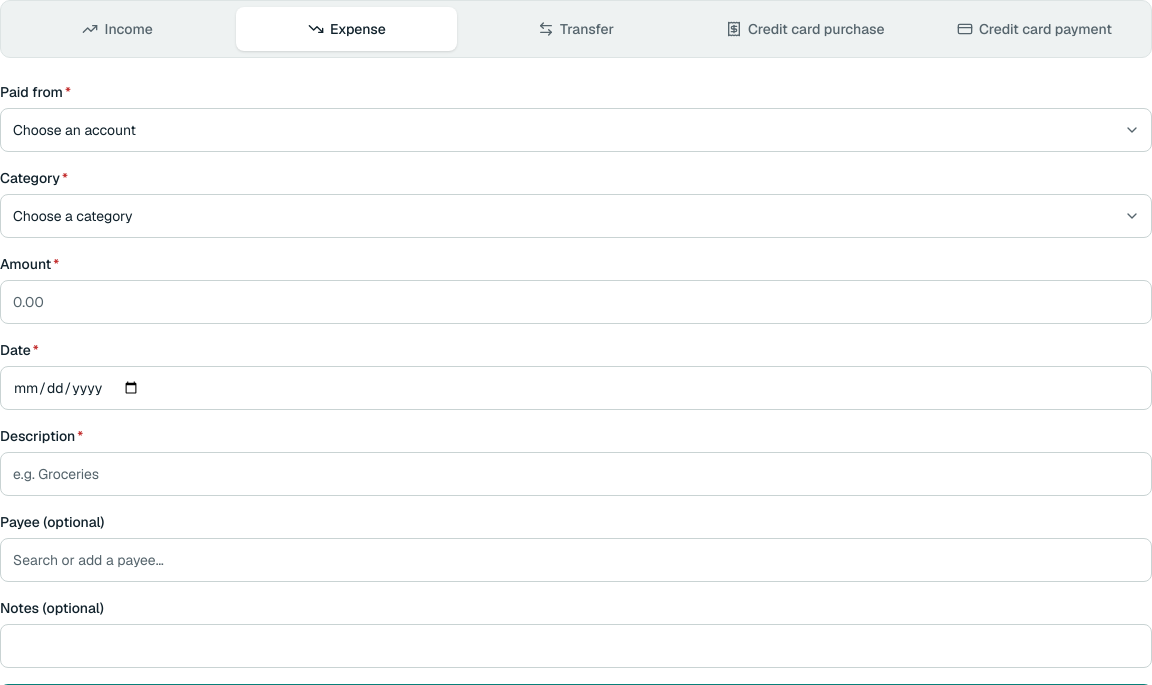
Test: NewTransactionForm › switches to the credit card payment form
Step 1. Click the radio button labelled "Credit card payment" → coordinates (1034, 29), box 924,7 -> 1145,51
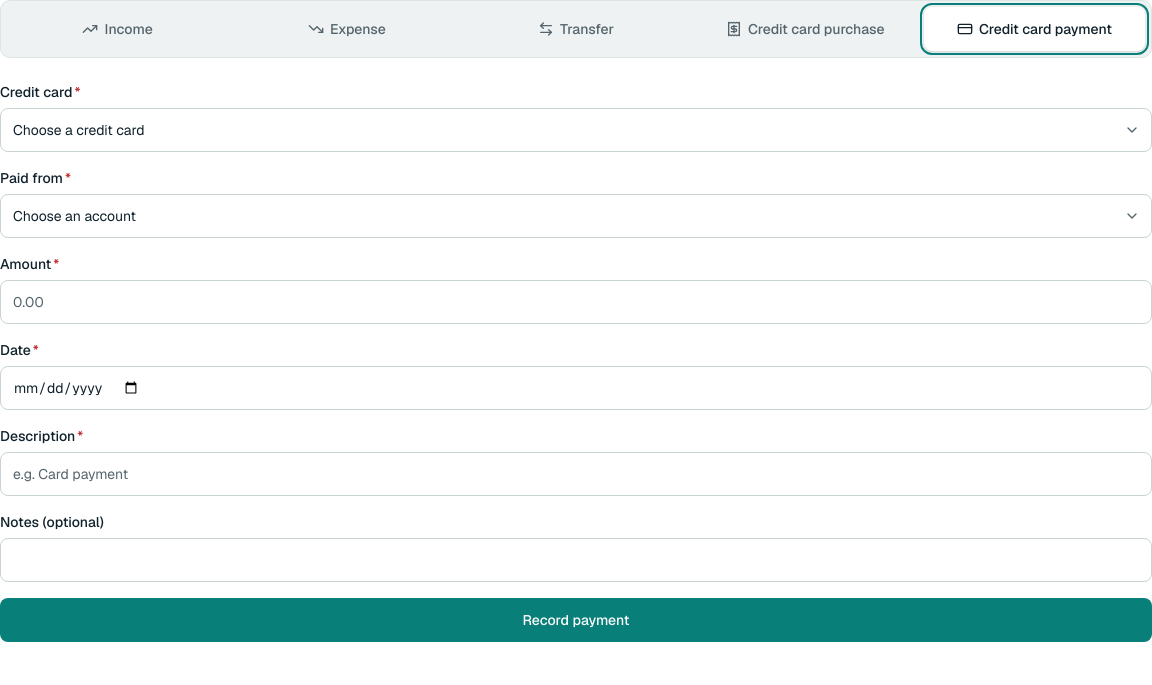
Result: the dropdown labelled "Credit card" is shown at 0,108 -> 1151,152
Result: the dropdown labelled "Paid from" is shown at 0,194 -> 1151,238
